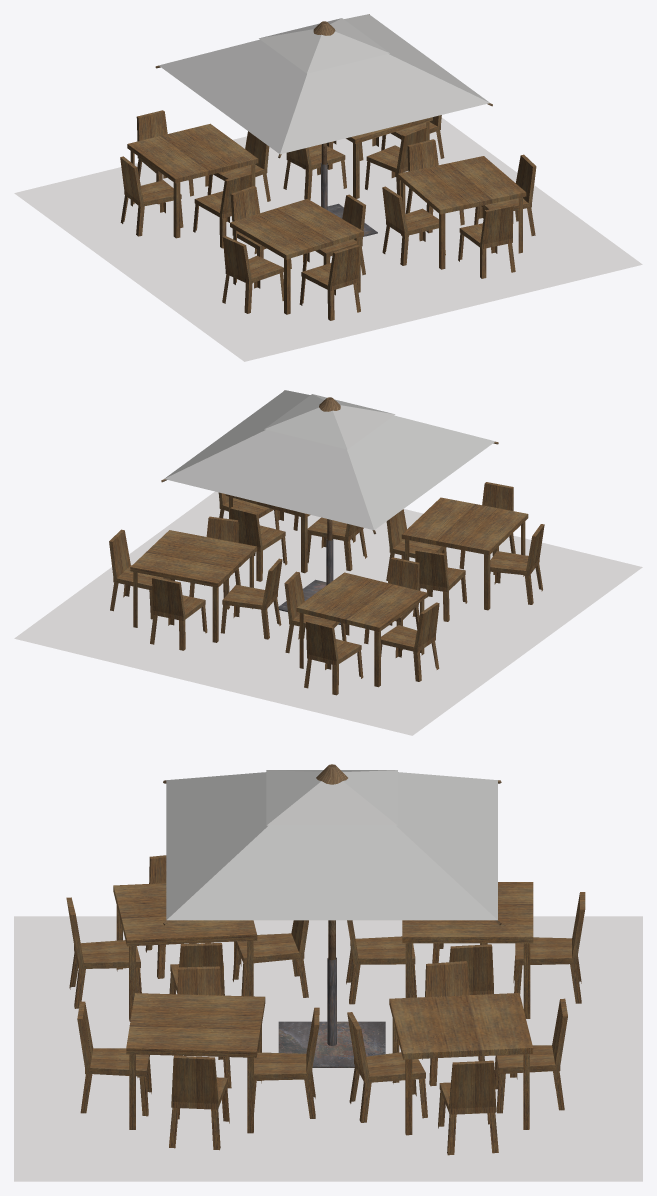
The picture shows the model from 3 angles, top to bottom: view 1: azimuth 30°, elevation 25°; view 2: azimuth 150°, elevation 25°; view 3: azimuth 270°, elevation 25°; orthographic projection. The views are drawn at different scales.
Parts seen in each view (by area): view 1: Object_3, Object_6, Object_2, Object_5; view 2: Object_3, Object_6, Object_2, Object_5; view 3: Object_3, Object_6, Object_2, Object_5, Object_4.
Part boxes in pixels (x1,y1,x2,y2): Object_3: [14, 117, 642, 361]; Object_6: [120, 110, 536, 320]; Object_2: [159, 14, 489, 154]; Object_5: [321, 162, 377, 236]; Object_3: [14, 491, 642, 735]; Object_6: [109, 482, 544, 695]; Object_2: [164, 390, 495, 530]; Object_5: [278, 538, 340, 624]; Object_3: [14, 916, 642, 1181]; Object_6: [66, 855, 585, 1155]; Object_2: [166, 770, 497, 920]; Object_5: [278, 957, 385, 1067]; Object_4: [163, 764, 501, 960].
Bounding box in the file's own units: 24 × 11.85 × 24.04.
Materials: 5 (3 with a texture image).
